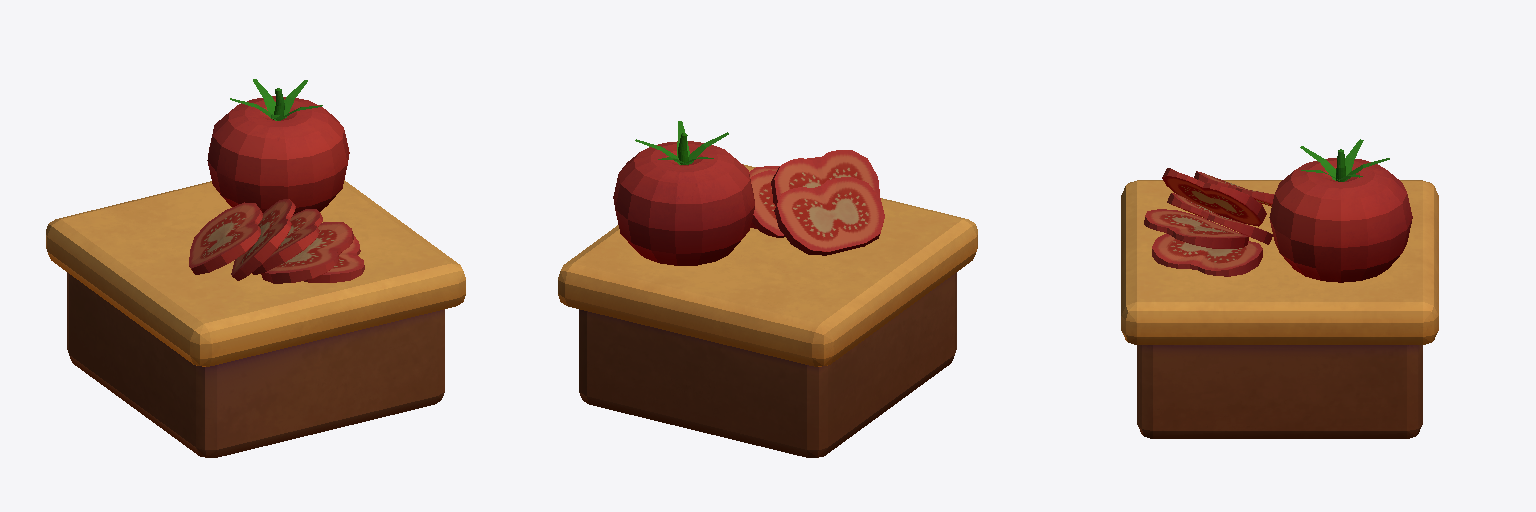
3 renders of one model, left to right at view 1: azimuth 30°, elevation 25°; view 2: azimuth 150°, elevation 25°; view 3: azimuth 270°, elevation 25°, orthographic.
Visible parts, largest first — view 1: ClearCounter.Base.005, Tomato.Base, Tomato.Slices; view 2: ClearCounter.Base.005, Tomato.Base, Tomato.Slices; view 3: ClearCounter.Base.005, Tomato.Base, Tomato.Slices.
Boxes of the visible parts, x1,y1,x2,y2 form: ClearCounter.Base.005: [46, 180, 465, 457]; Tomato.Base: [207, 79, 349, 214]; Tomato.Slices: [189, 199, 364, 283]; ClearCounter.Base.005: [558, 164, 977, 457]; Tomato.Base: [613, 121, 754, 265]; Tomato.Slices: [749, 150, 884, 255]; ClearCounter.Base.005: [1121, 180, 1438, 438]; Tomato.Base: [1269, 139, 1412, 282]; Tomato.Slices: [1144, 168, 1274, 276].
Size of the model in its own units: 1.33 by 1.23 by 1.33.
3 materials, 2 textured.